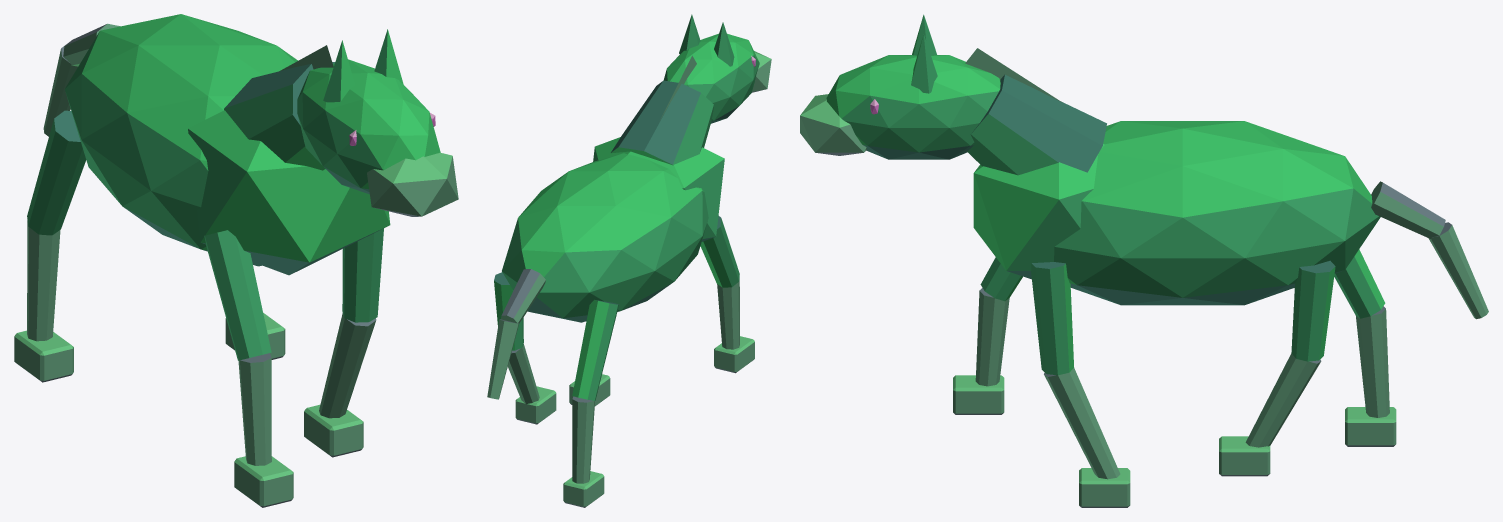
The model's file is creature_horse_passing_a_v01.glb.
3 renders of one model, left to right at view 1: azimuth 30°, elevation 25°; view 2: azimuth 150°, elevation 25°; view 3: azimuth 270°, elevation 25°, orthographic. The views are drawn at different scales.
Visible parts, largest first — view 1: GEO_creature_horse_passing_a_v01; view 2: GEO_creature_horse_passing_a_v01; view 3: GEO_creature_horse_passing_a_v01.
Part boxes in pixels (x1,y1,x2,y2): GEO_creature_horse_passing_a_v01: (14, 14, 458, 507); GEO_creature_horse_passing_a_v01: (487, 14, 771, 507); GEO_creature_horse_passing_a_v01: (800, 14, 1488, 507).
Bounding box in the file's own units: 0.913 × 2.12 × 2.95.
